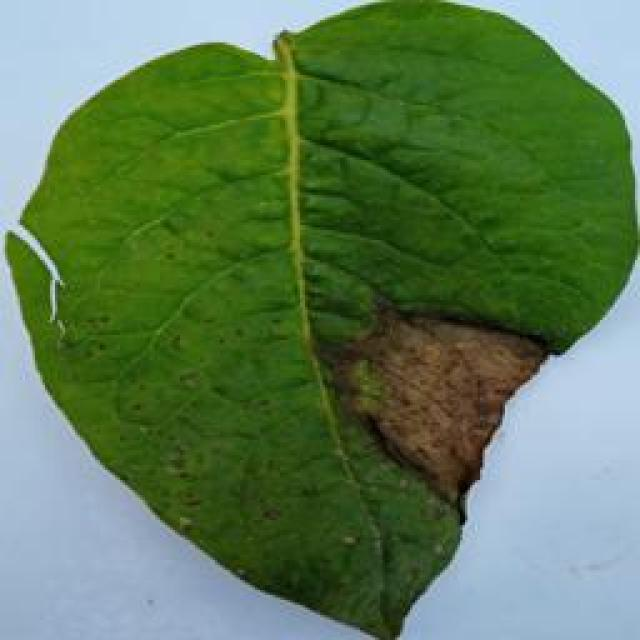Potato_Late_Blight: (12, 6, 626, 632)
